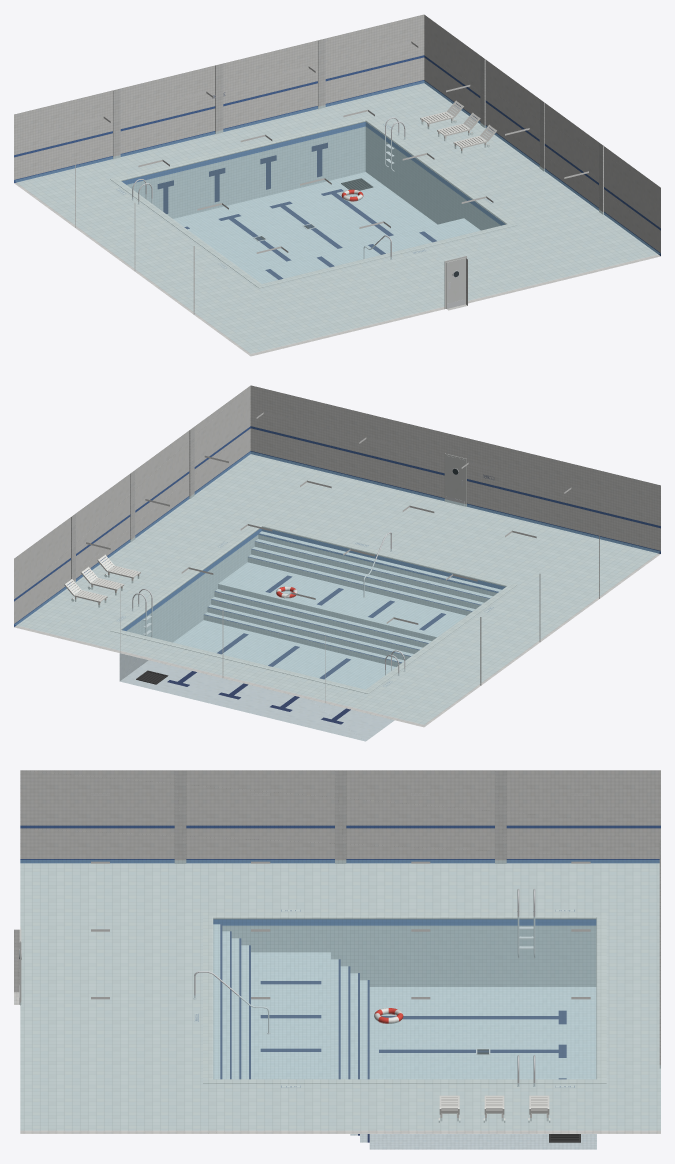
File: sub_pool_01.glb
The picture shows the model from 3 angles, top to bottom: view 1: azimuth 30°, elevation 25°; view 2: azimuth 150°, elevation 25°; view 3: azimuth 270°, elevation 25°; orthographic projection. The views are drawn at different scales.
Visible parts, largest first — view 1: Pool_Water, Tile_Deck, Tile_Wall, Tile_Pool, Tile_Accent, Tile_Lip, Tile_Trim, Tile_Lane, Plastic_White, Ceiling_Paint, DoorLeaf_atrium, Chrome; view 2: Pool_Water, Tile_Deck, Tile_Wall, Tile_Pool, Tile_Accent, Tile_Lip, Tile_Lane, Tile_Trim, Plastic_White, Ceiling_Paint, DoorLeaf_atrium, Chrome; view 3: Pool_Water, Tile_Deck, Tile_Pool, Tile_Wall, Tile_Lip, Tile_Accent, Tile_Lane, Tile_Trim, Plastic_White, Chrome, Ceiling_Paint.
Part boxes in pixels (x1,y1,x2,y2): Pool_Water: (15,81,659,353); Tile_Deck: (14,83,660,356); Tile_Wall: (14,14,660,305); Tile_Pool: (127,126,500,283); Tile_Accent: (14,55,660,255); Tile_Lip: (110,116,517,288); Tile_Trim: (75,39,603,314); Tile_Lane: (157,142,436,279); Plastic_White: (420,100,496,153); Ceiling_Paint: (79,41,595,253); DoorLeaf_atrium: (446,258,465,308); Chrome: (131,117,405,259); Pool_Water: (14,452,659,724); Tile_Deck: (14,454,660,727); Tile_Wall: (14,385,660,623); Tile_Pool: (119,531,501,741); Tile_Accent: (14,426,660,630); Tile_Lip: (110,521,517,693); Tile_Lane: (167,533,498,724); Tile_Trim: (71,427,599,702); Plastic_White: (64,554,140,607); Ceiling_Paint: (79,412,595,624); DoorLeaf_atrium: (446,455,465,506); Chrome: (131,532,405,675); Pool_Water: (20,860,660,1130); Tile_Deck: (14,863,660,1133); Tile_Pool: (213,924,596,1149); Tile_Wall: (14,770,660,992); Tile_Lip: (203,912,606,1083); Tile_Accent: (20,825,660,925); Tile_Lane: (220,924,566,1142); Tile_Trim: (174,771,660,1068); Plastic_White: (438,1095,550,1122); Chrome: (193,889,535,1086); Ceiling_Paint: (91,793,590,999).
Bounding box in the file's own units: 20 × 5.68 × 20.2.
Materials: 18 (10 with a texture image).
